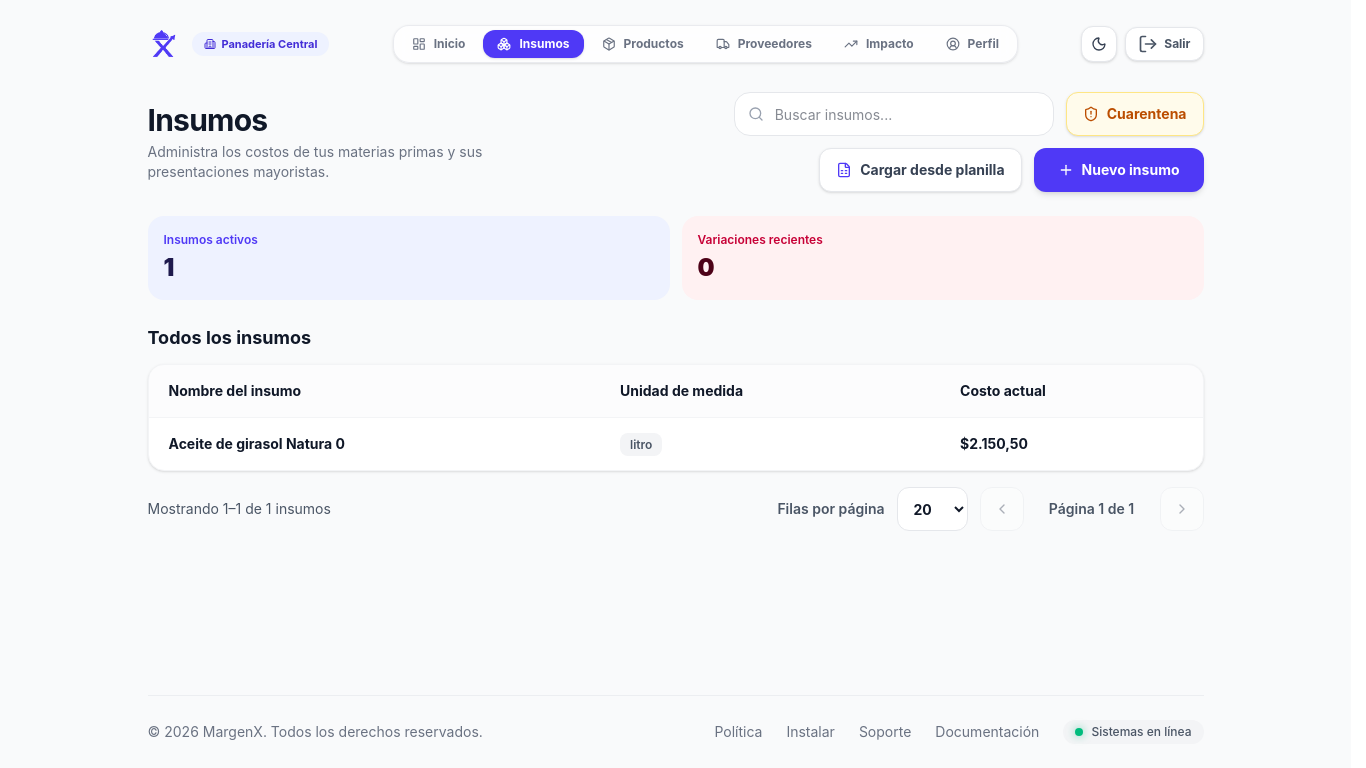
Test: SuppliesPageContent - catálogo completo, búsqueda real y aislamiento (#350) › una búsqueda sin resultados muestra el término buscado
Type "azafran" into the field named "Buscar insumos por nombre".
click(894, 114); type("azafran")  # box [734,92,1054,136]
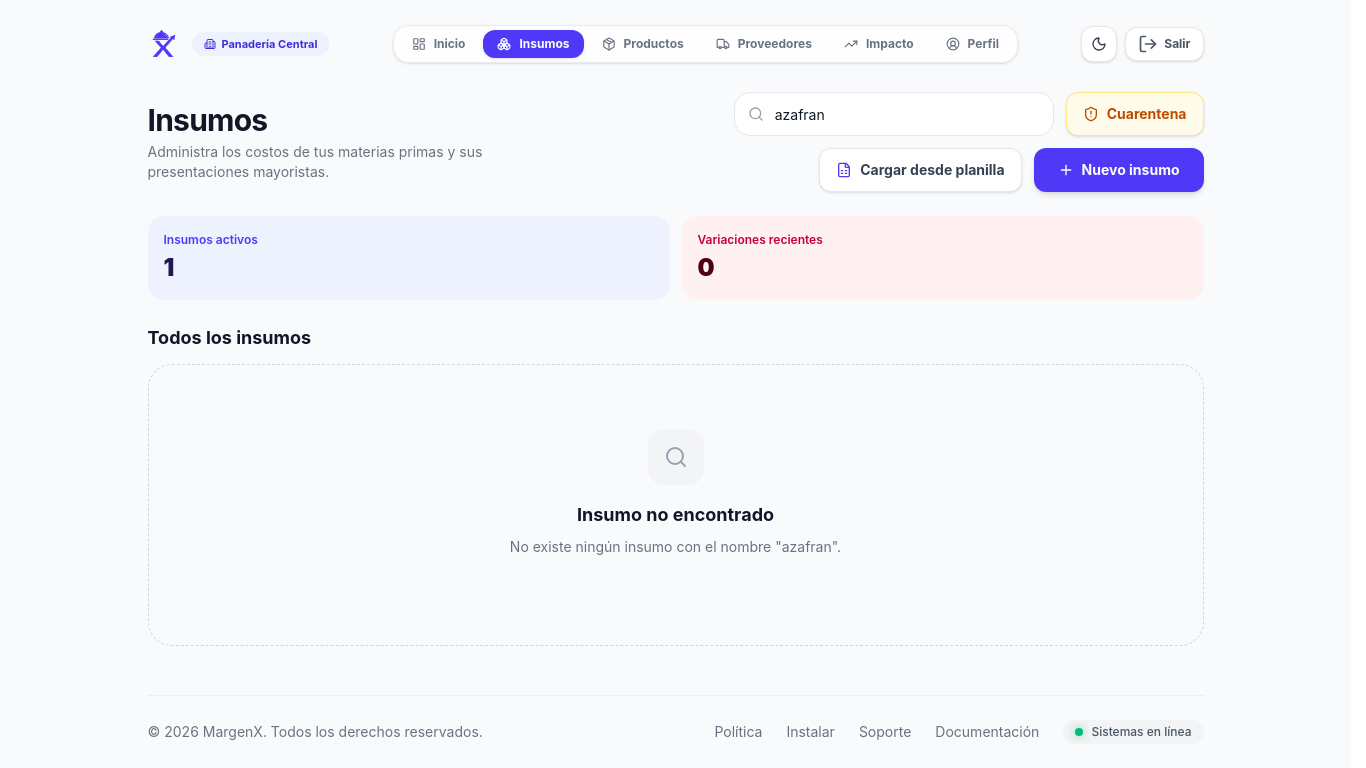
expect the heading "Insumo no encontrado" is shown: met, box [577,501,774,529]
expect the text "No existe ningún insumo con el nombre \"azafran\"." is shown: met, box [510,537,841,557]
